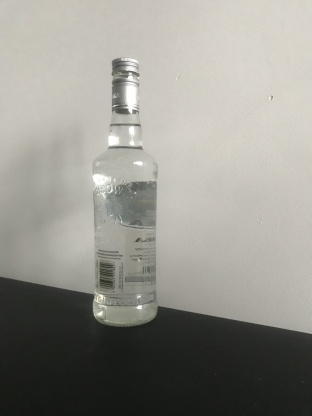nakretka: (110, 55, 141, 115)
